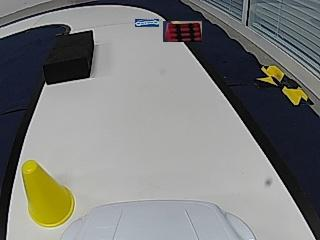block: (44, 31, 93, 85)
cone: (22, 160, 75, 227)
